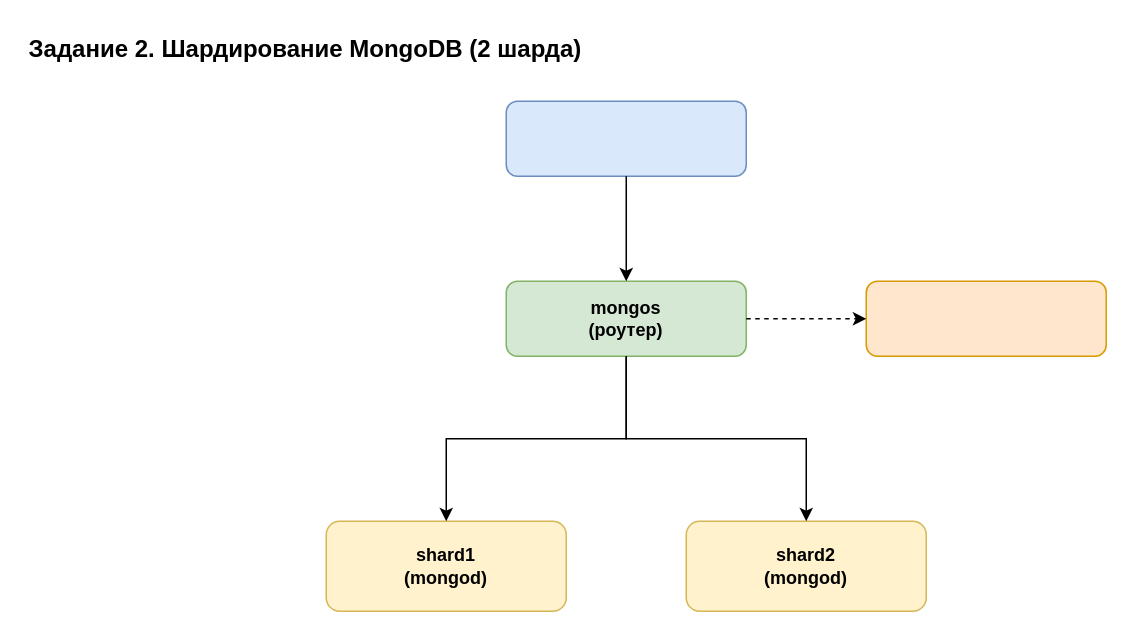
This 1133x638 diagram has some shape labels left out. The centre of each missing label's shape, as x and y in pixels:
configSrv (config server): the point at 985,318
pymongo-api (приложение): the point at 625,138
